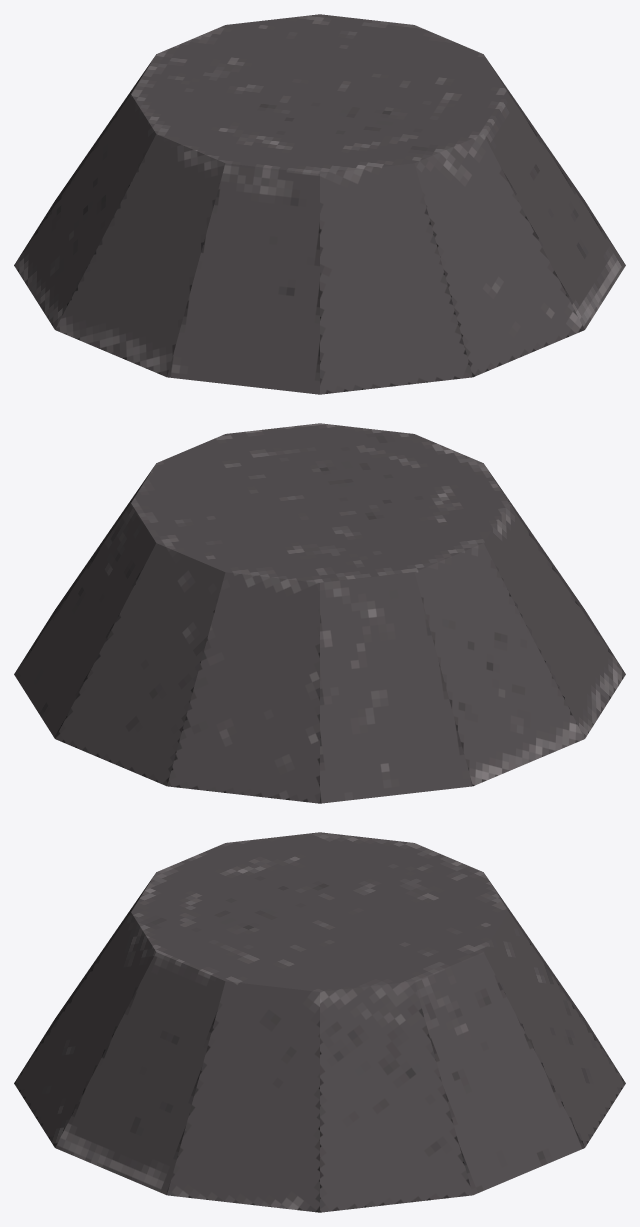
File: Pedestal.fbx
3 renders of one model, top to bottom at view 1: azimuth 30°, elevation 25°; view 2: azimuth 150°, elevation 25°; view 3: azimuth 270°, elevation 25°, orthographic.
Parts seen in each view (by area): view 1: Pedestal; view 2: Pedestal; view 3: Pedestal.
Part boxes in pixels (x1=…): Pedestal: x1=14, y1=14, x2=625, y2=394; Pedestal: x1=14, y1=423, x2=625, y2=803; Pedestal: x1=14, y1=832, x2=625, y2=1212.
Bounding box in the file's own units: 324 × 100 × 324.
1 material, 1 textured.
